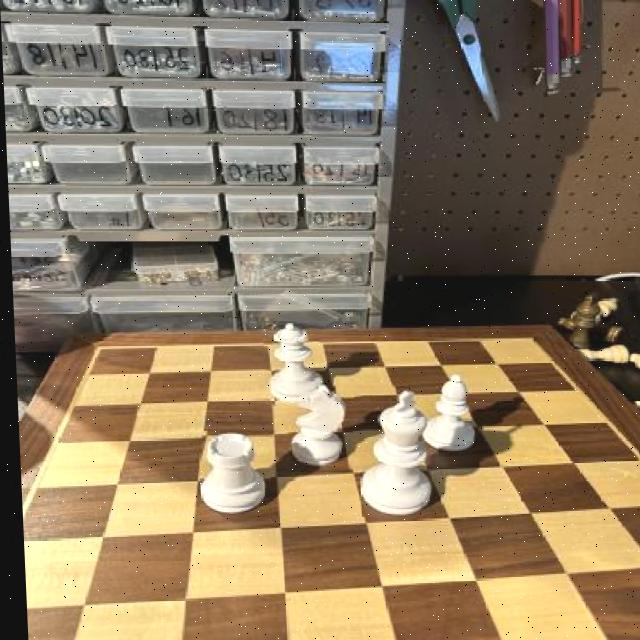black-rook: (415, 372, 481, 454)
white-bishop: (353, 386, 435, 518)
white-king: (281, 384, 352, 468)
white-pawn: (259, 320, 322, 405)
white-queen: (192, 432, 270, 516)
